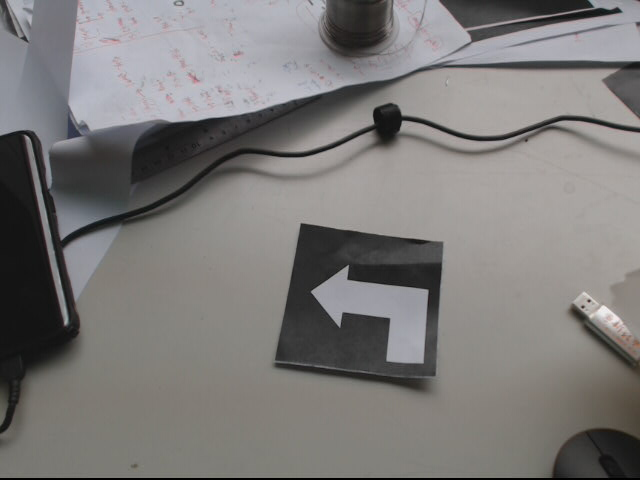left: (273, 223, 449, 380)
